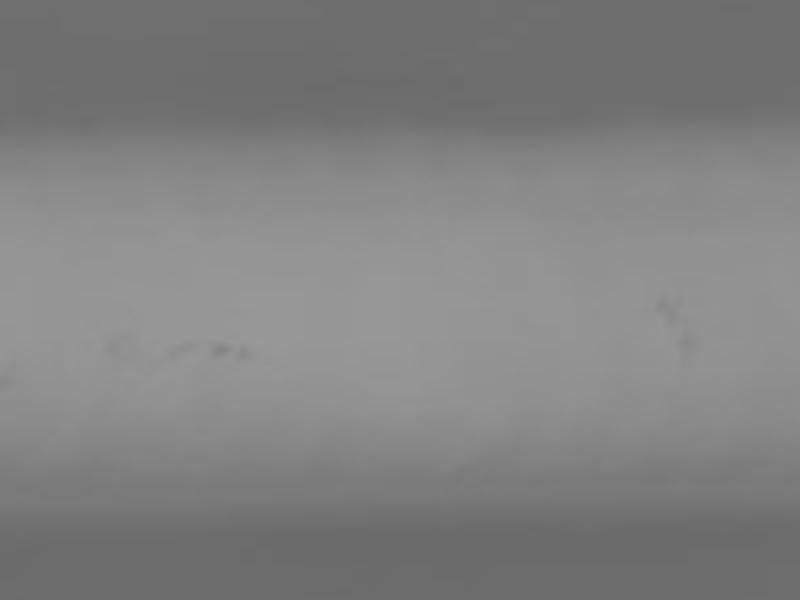defect: (106, 329, 135, 359), (677, 331, 698, 363), (657, 294, 680, 319), (205, 341, 231, 359), (169, 340, 196, 354), (236, 342, 250, 362)
